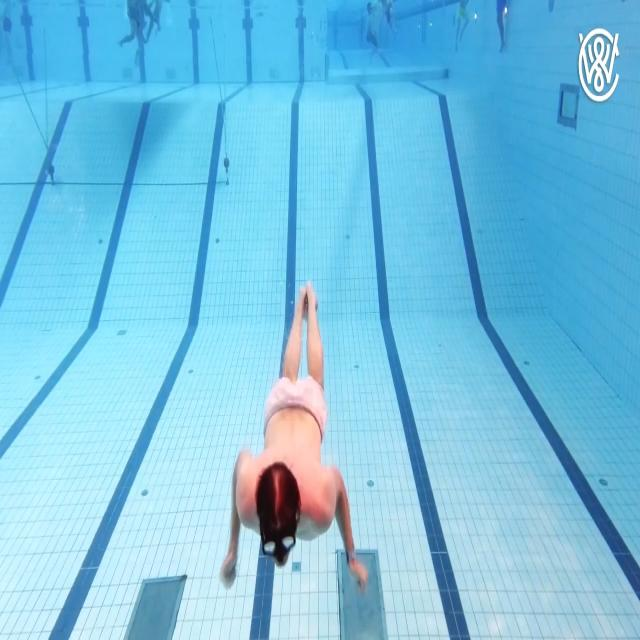Swimming: (218, 280, 370, 595)
